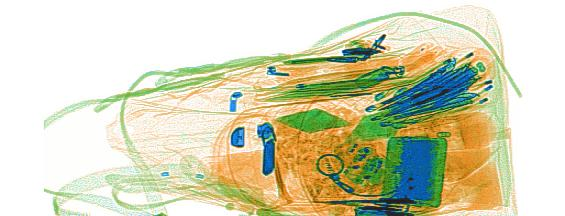plasticBottleWithaNozzle: (402, 111, 496, 152)
